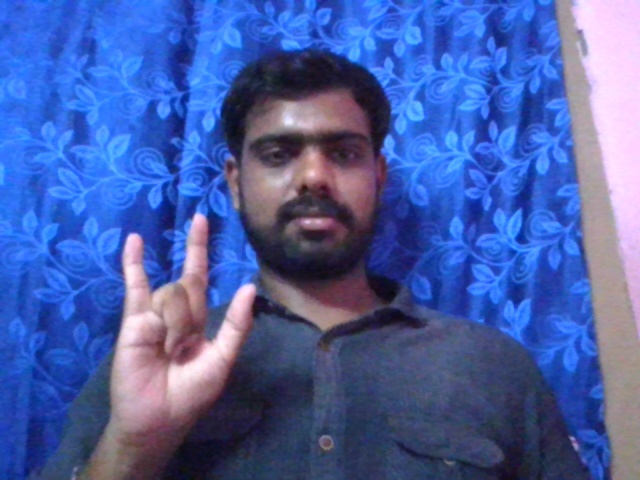IloveYou: (102, 204, 260, 438)
